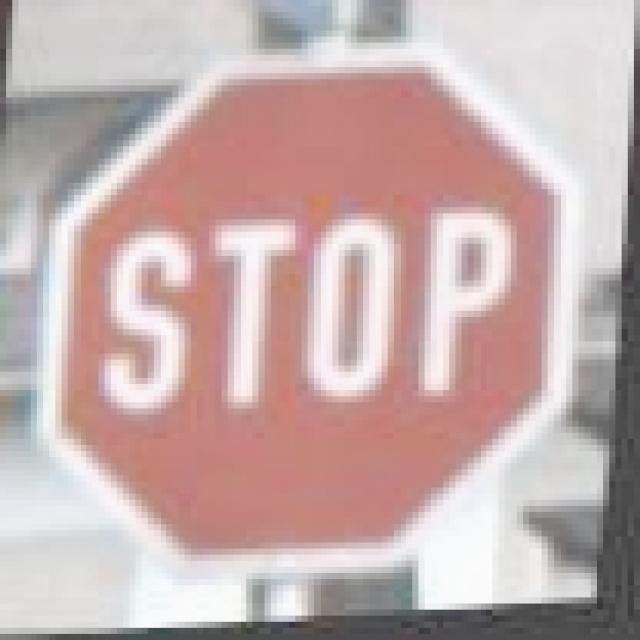stop_sign: (18, 22, 591, 594)
